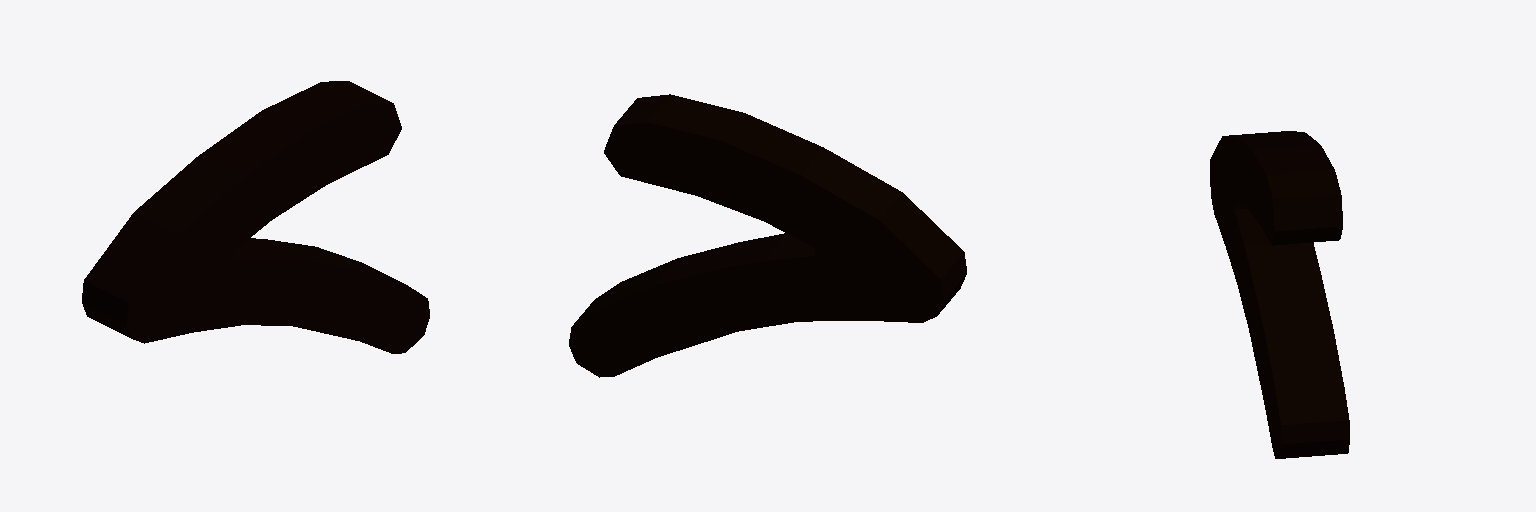
Rendered from warai_me.obj.
3 views of the same model, side by side, from view 1: azimuth 30°, elevation 25°; view 2: azimuth 150°, elevation 25°; view 3: azimuth 270°, elevation 25° (orthographic).
Parts seen in each view (by area): view 1: 立方体.011; view 2: 立方体.011; view 3: 立方体.011.
Part boxes in pixels (x1,y1,x2,y2): 立方体.011: (82, 81, 429, 353); 立方体.011: (569, 94, 966, 377); 立方体.011: (1210, 131, 1349, 458).
Size of the model in its own units: 0.5807 by 0.416 by 0.201.